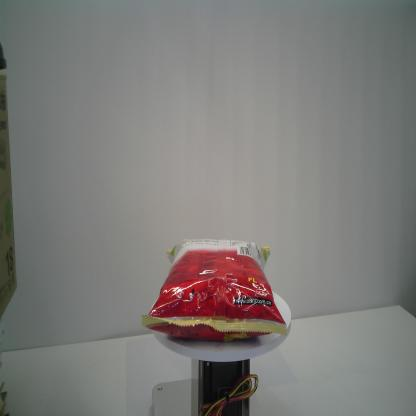Puffed Food: (140, 235, 288, 343)
